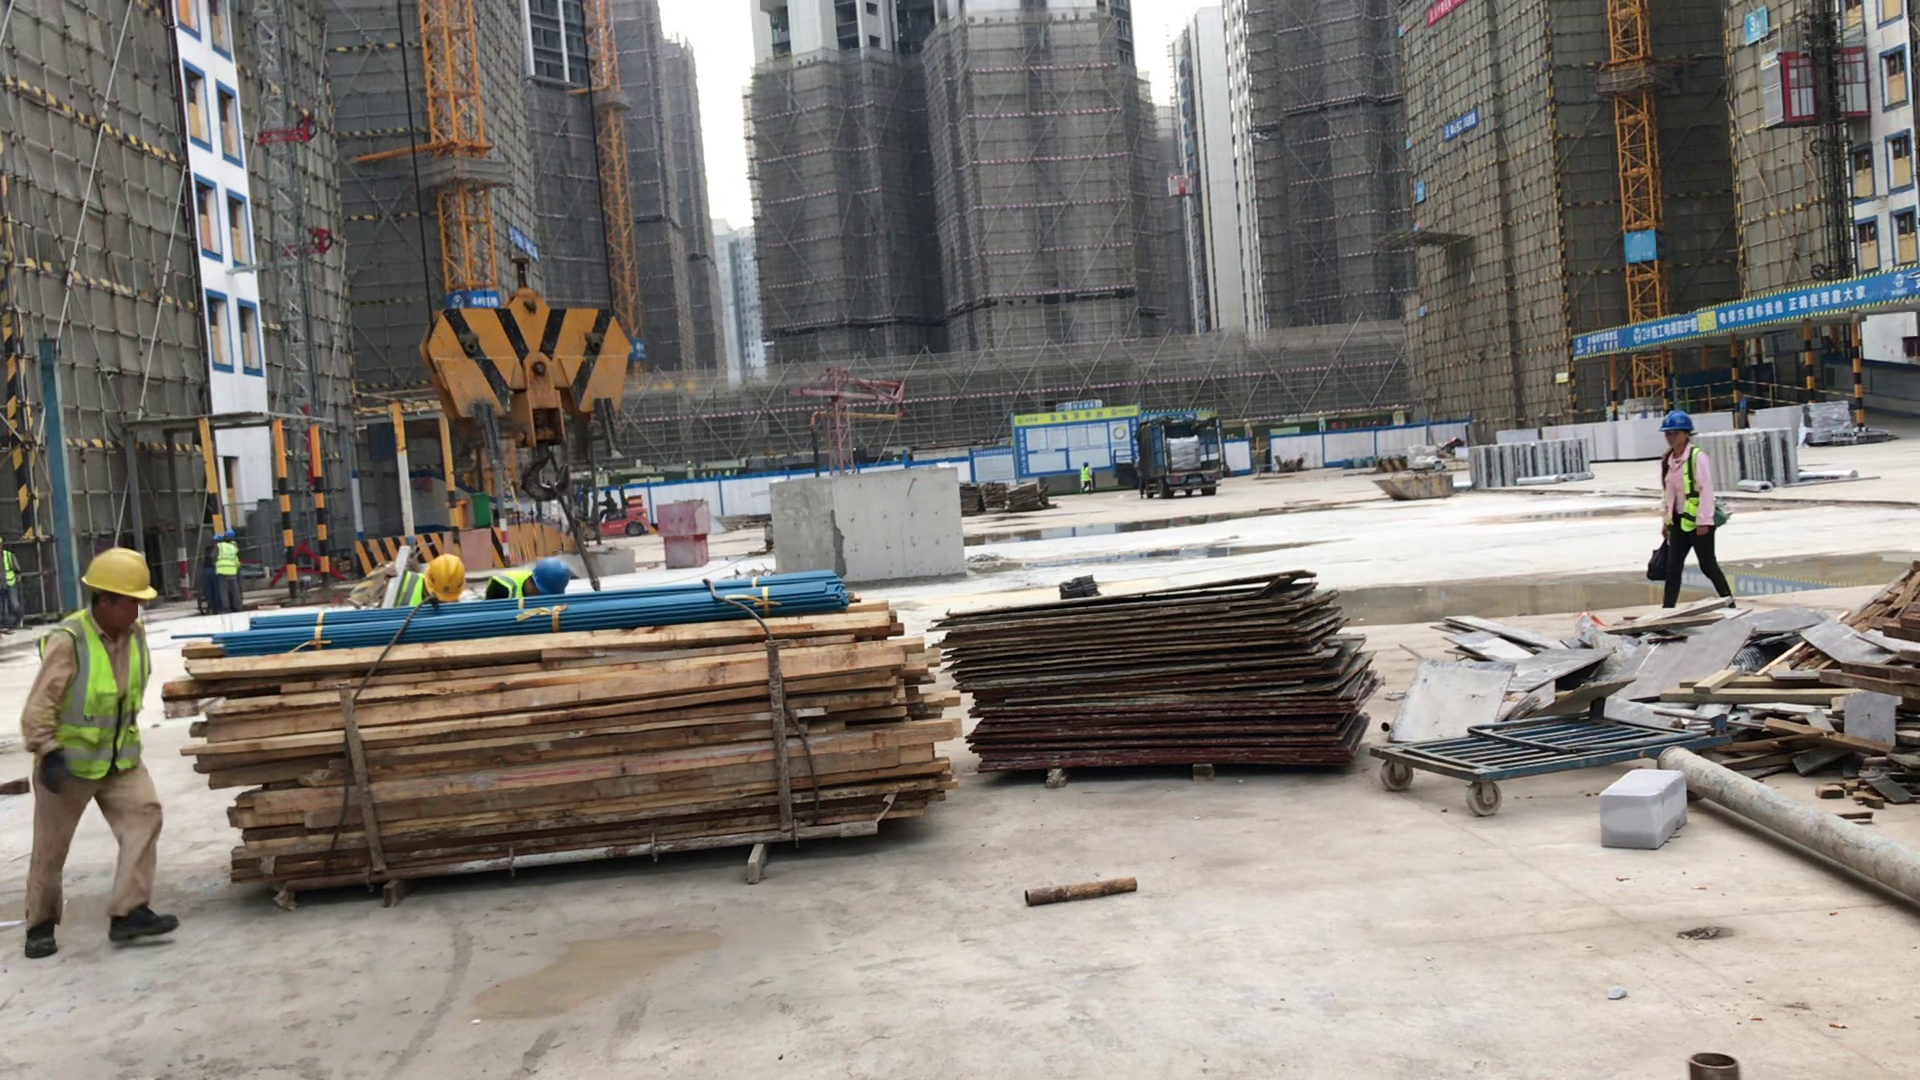board: (939, 598, 1367, 790)
brick: (1496, 413, 1662, 462)
handcart: (1370, 690, 1720, 812)
helmet: (77, 539, 167, 612), (425, 553, 464, 601), (529, 557, 569, 592), (1659, 408, 1695, 438), (212, 529, 237, 544)
hook: (416, 278, 642, 495)
hopper: (1361, 466, 1461, 510), (550, 539, 640, 579)
person: (25, 540, 172, 966), (1653, 412, 1743, 626), (191, 526, 249, 615), (397, 552, 474, 611), (1, 538, 24, 635), (1075, 461, 1096, 493), (597, 488, 616, 521)
slogan: (496, 222, 553, 265), (1431, 105, 1490, 147), (1614, 222, 1663, 262), (1415, 1, 1467, 37)
vest: (52, 616, 146, 775), (1674, 447, 1699, 534), (483, 571, 532, 599), (396, 571, 426, 606), (1, 550, 21, 589), (215, 543, 238, 577), (1080, 466, 1094, 483)
wood: (172, 629, 960, 865)
